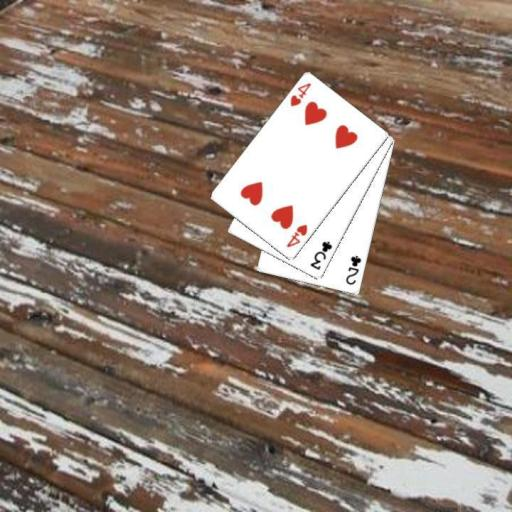card-corner: (307, 238, 334, 272), (283, 221, 309, 250), (287, 80, 313, 108), (342, 252, 362, 286)
